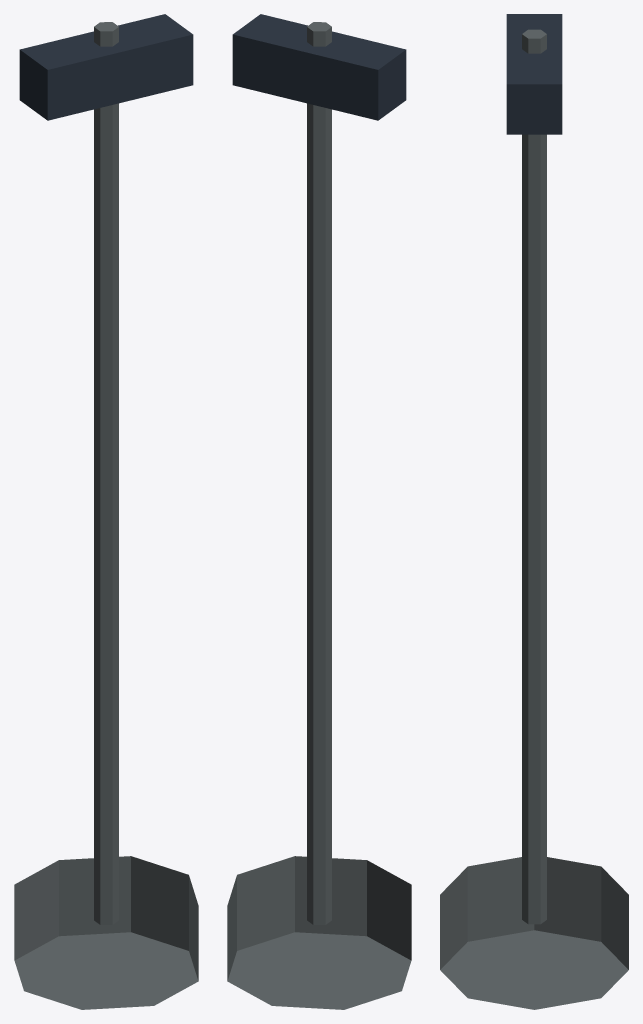
Rendered from mic_stand.glb.
The picture shows the model from 3 angles, left to right: view 1: azimuth 30°, elevation 25°; view 2: azimuth 150°, elevation 25°; view 3: azimuth 270°, elevation 25°; orthographic projection.
Bounding box in the file's own units: 0.2719 × 1.49 × 0.2719.
1 material, 1 textured.
